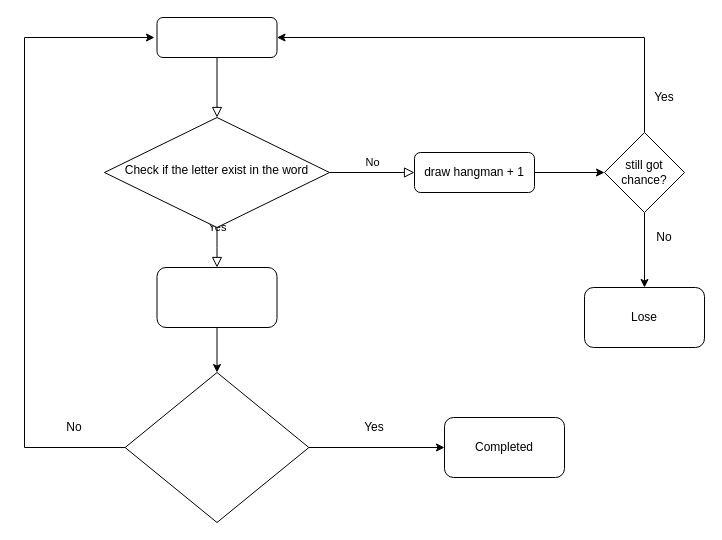
Image size: 722x540. Some labels were removed from this diagram. Here are the shapes that lost their labels. From the top down, the centre of each, then its label:
the point at 216,37: User enter a letter
the point at 216,297: Reveal letter sequence
the point at 216,447: Is the word completed?
